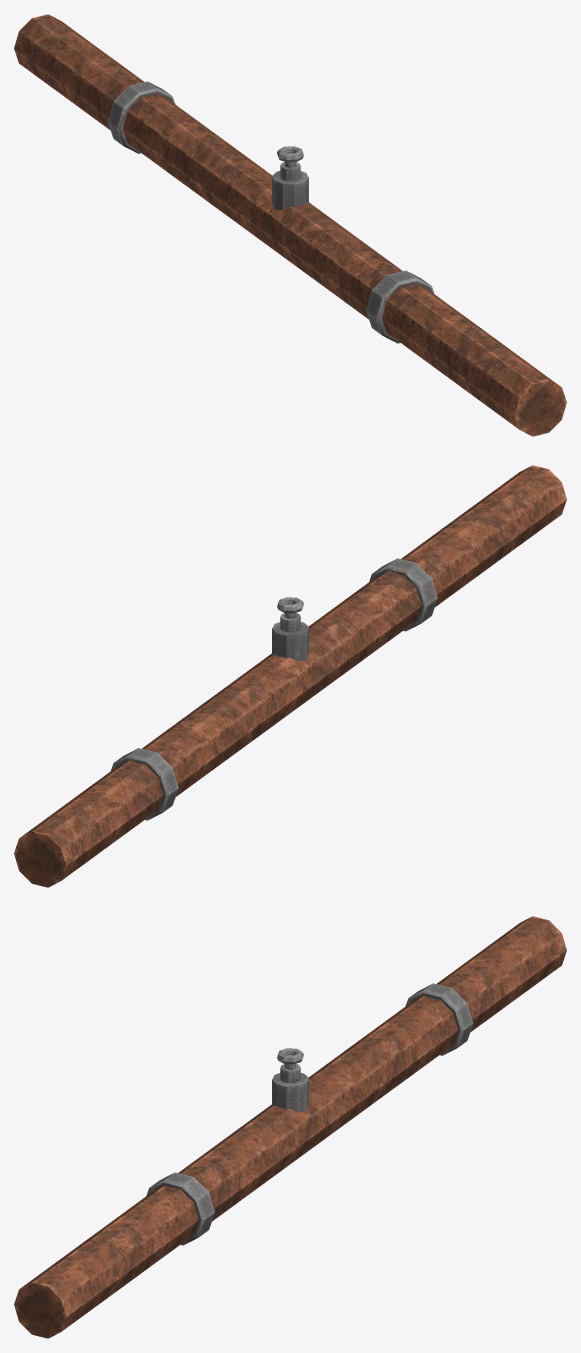
Rendered from Cano2_Final.fbx.
3 renders of one model, top to bottom at view 1: azimuth 30°, elevation 25°; view 2: azimuth 150°, elevation 25°; view 3: azimuth 330°, elevation 25°, orthographic.
Parts seen in each view (by area): view 1: pCylinder10; view 2: pCylinder10; view 3: pCylinder10.
Boxes of the visible parts, bbox=[...] form: pCylinder10: bbox=[14, 14, 566, 436]; pCylinder10: bbox=[14, 465, 566, 887]; pCylinder10: bbox=[14, 916, 566, 1338].
Size of the model in its own units: 0.7717 by 1.28 by 10.95.
1 material, 1 textured.
